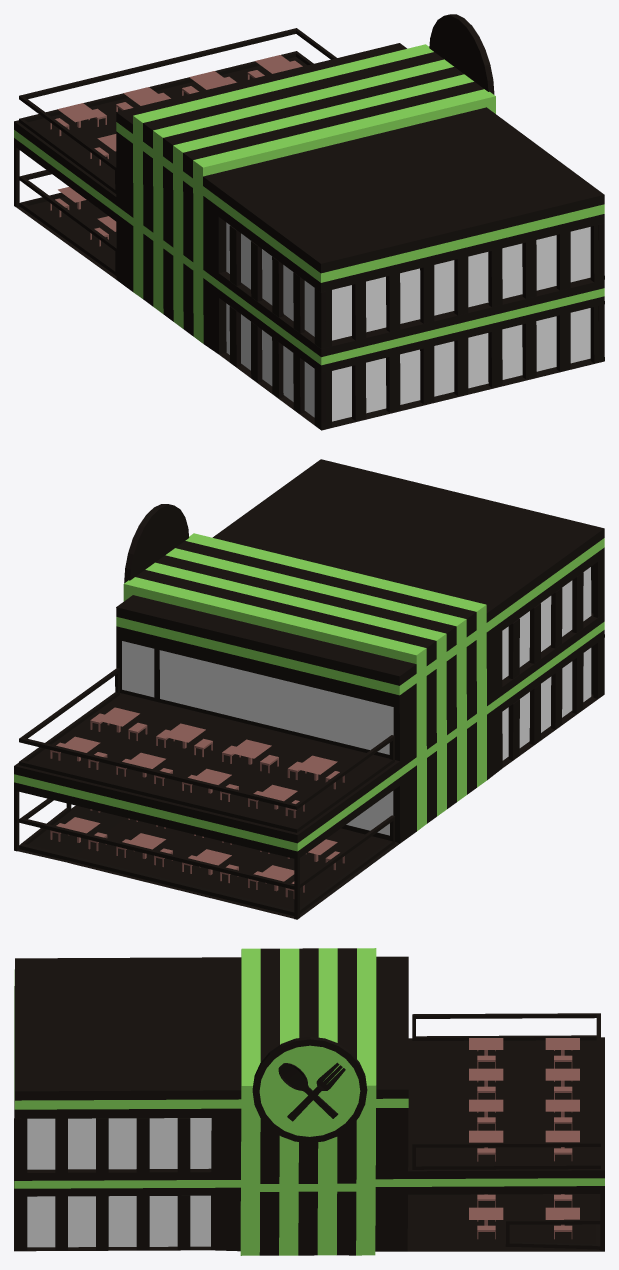
The model's file is resto.fbx.
The picture shows the model from 3 angles, top to bottom: view 1: azimuth 30°, elevation 25°; view 2: azimuth 150°, elevation 25°; view 3: azimuth 270°, elevation 25°; orthographic projection. The views are drawn at different scales.
Visible parts, largest first — view 1: Cube.101; view 2: Cube.101; view 3: Cube.101.
Part boxes in pixels (<box>): Cube.101: <box>14,14,604,430</box>; Cube.101: <box>14,459,604,919</box>; Cube.101: <box>14,948,604,1255</box>.
Size of the model in its own units: 5066 by 3679 by 9006.
